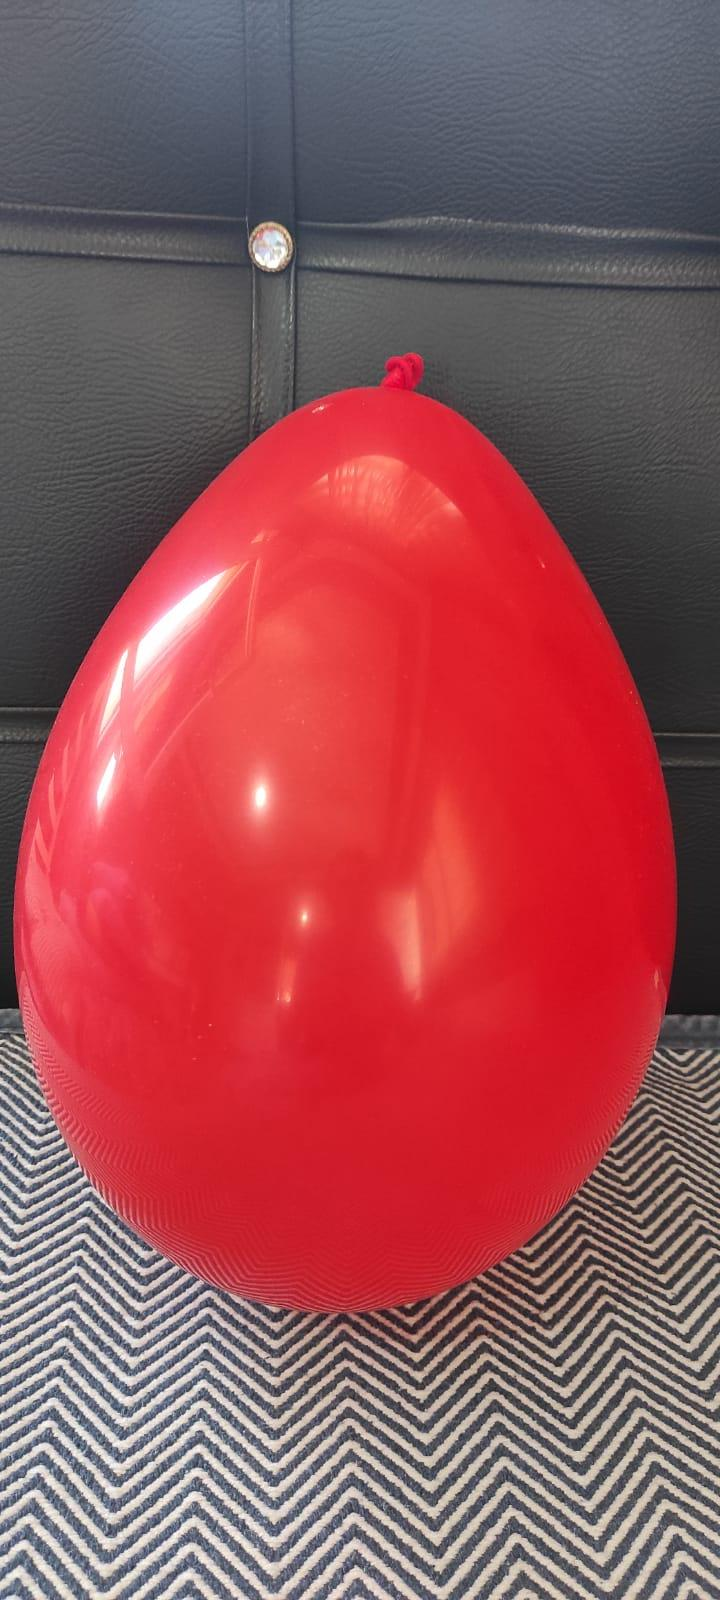red: (17, 341, 683, 1322)
